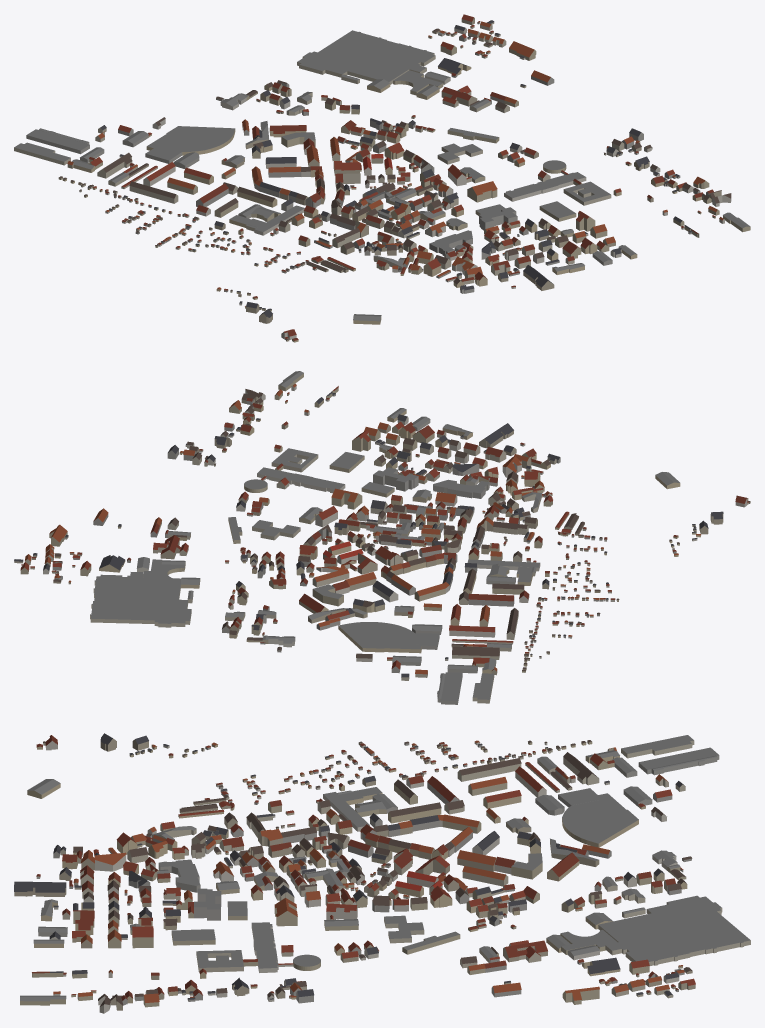
3 views of the same model, one above another, from view 1: azimuth 30°, elevation 25°; view 2: azimuth 150°, elevation 25°; view 3: azimuth 270°, elevation 25° (orthographic). The views are drawn at different scales.
Parts seen in each view (by area): view 1: buildings; view 2: buildings; view 3: buildings.
Boxes of the visible parts, bbox=[...] form: buildings: bbox=[14, 14, 750, 342]; buildings: bbox=[14, 371, 750, 704]; buildings: bbox=[14, 733, 750, 1013].
Size of the model in its own units: 826 by 41.7 by 903.
